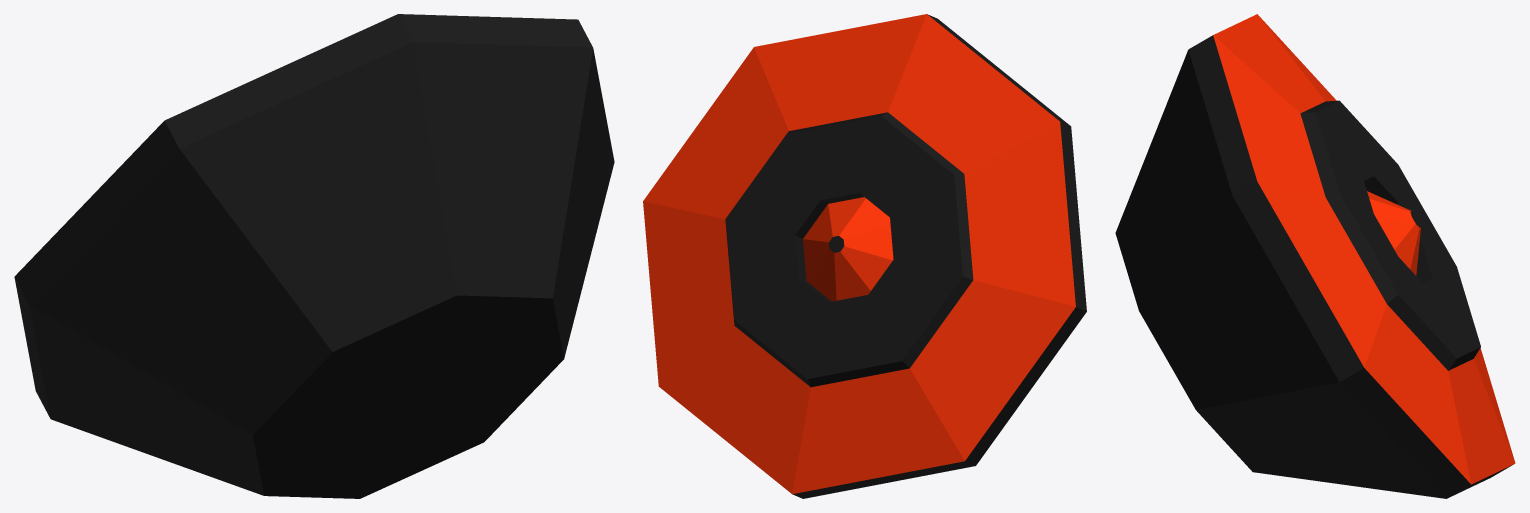
The model's file is Altifalantes.fbx.
3 views of the same model, side by side, from view 1: azimuth 30°, elevation 25°; view 2: azimuth 150°, elevation 25°; view 3: azimuth 270°, elevation 25° (orthographic). The views are drawn at different scales.
Visible parts, largest first — view 1: Cylinder; view 2: Cylinder; view 3: Cylinder.
Boxes of the visible parts, x1,y1,x2,y2 form: Cylinder: (14,14,614,498); Cylinder: (643,14,1086,498); Cylinder: (1115,14,1515,498).
Bounding box in the file's own units: 200 × 174 × 143.
